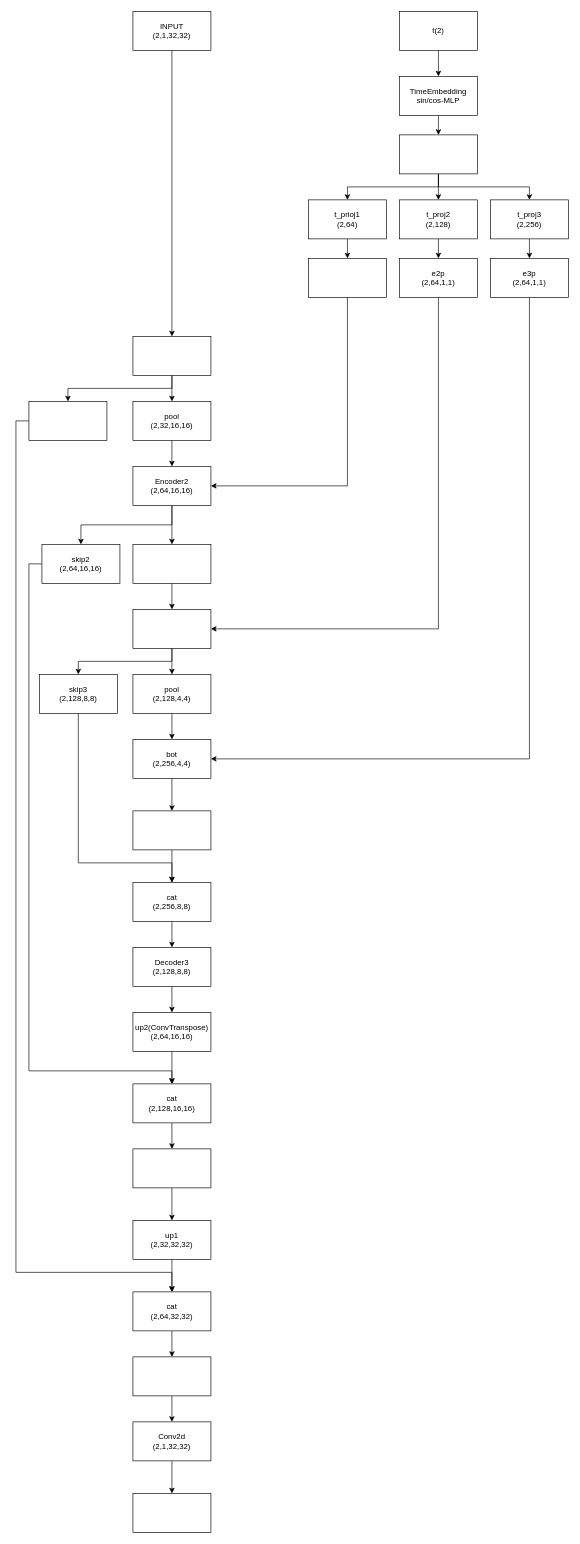
The diagram is 580 pixels wide and 1544 high, and some of its shapes have lost their labels. The centre of each missing label's shape, as x and y in pixels:
Decoder1 (2,32,32,32): point 171,1376
Decoder2 (2,64,16,16): point 171,1168
e1(2,32): point 438,154
e1p (2,64,1,1): point 347,277
Encoder1 (2,32,32,32): point 171,355
Encoder3 (2,128,8,8): point 171,628
OUTPUT (2,1,32,32): point 171,1512
pool (2,64,8,8): point 171,563
skip1 (2,32,32,32): point 67,420
up3(ConvTranspose) (2,128,8,8): point 171,830
